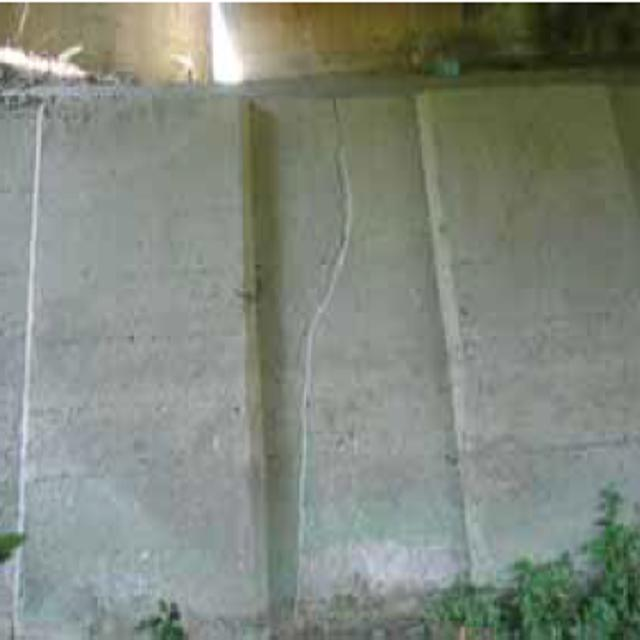crack: (287, 93, 354, 520)
